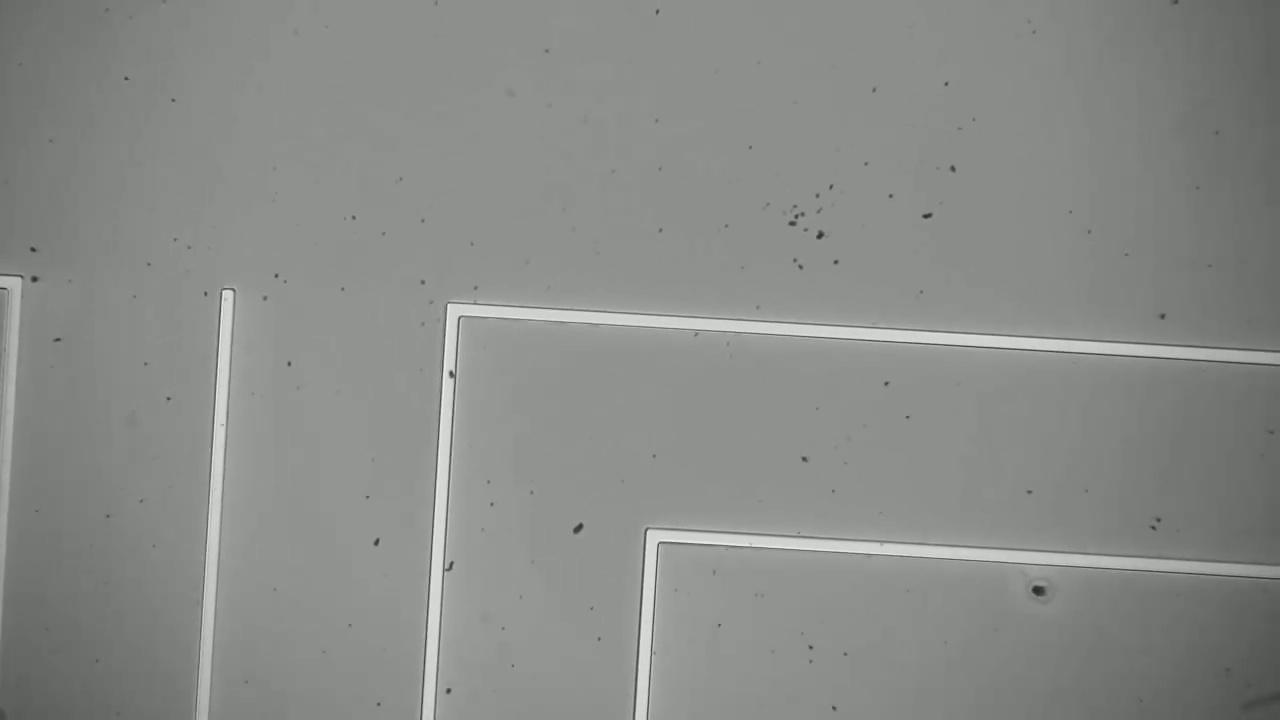stains_enbedded: (434, 364, 465, 388)
